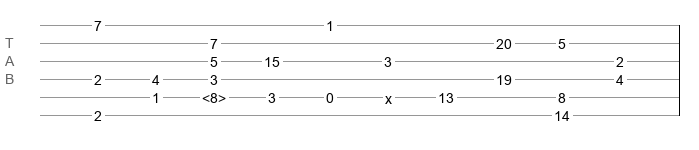0: (326, 90, 334, 100)
1: (152, 90, 160, 100), (326, 18, 334, 28)
13: (438, 90, 454, 100)
14: (554, 108, 570, 118)
15: (264, 54, 280, 64)
19: (496, 72, 512, 82)
2: (94, 72, 102, 82), (94, 108, 102, 118), (616, 54, 624, 64)
20: (496, 36, 512, 46)
3: (210, 72, 218, 82), (268, 90, 276, 100), (384, 54, 392, 64)
4: (152, 72, 160, 82), (616, 72, 624, 82)
5: (210, 54, 218, 64), (558, 36, 566, 46)
7: (94, 18, 102, 28), (210, 36, 218, 46)
8: (558, 90, 566, 100)
harmonic: (202, 90, 226, 100)
x: (385, 91, 392, 99)
